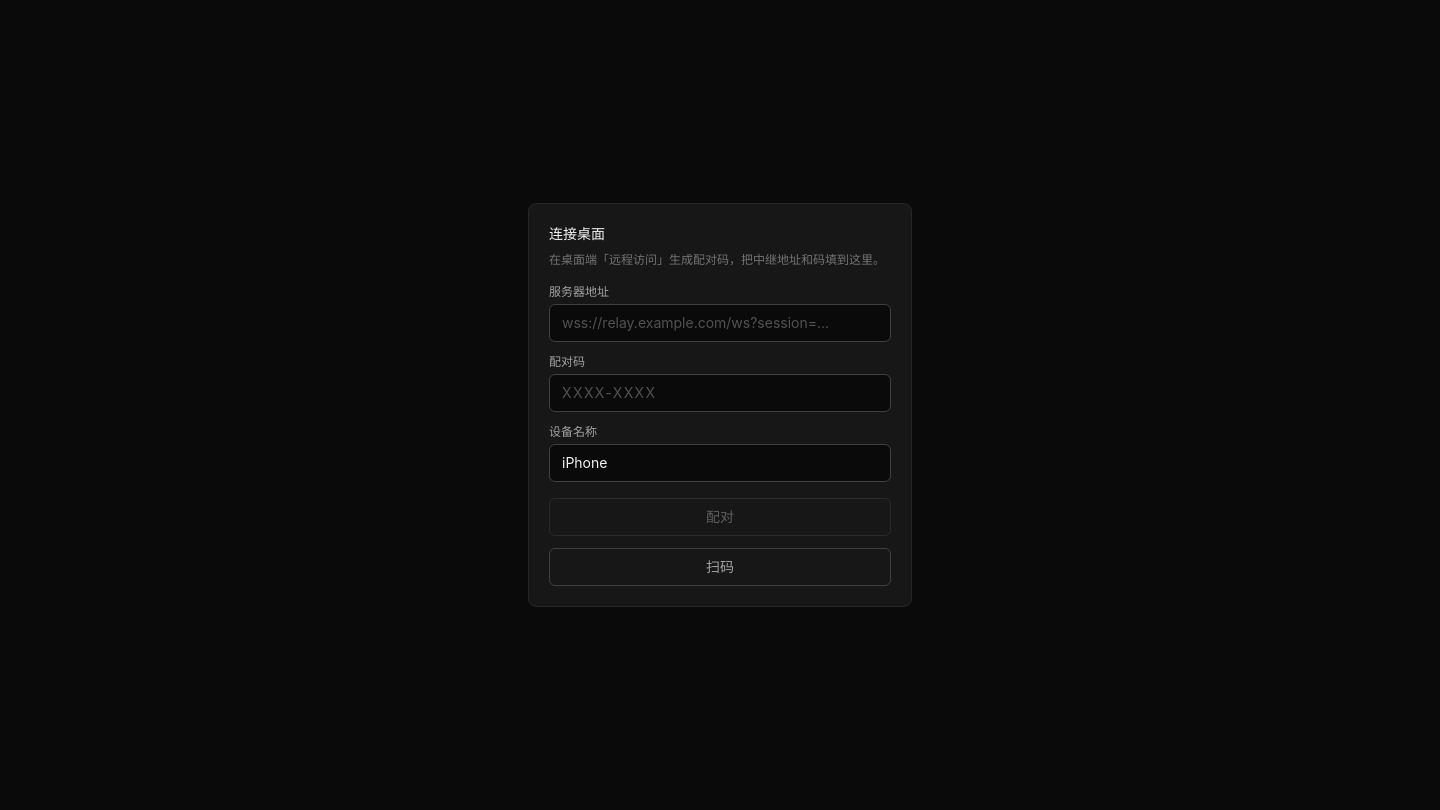
Test case: PairingScreen QR scan › lets the user cancel the scanner and return to the form
The width and height of the screenshot is (1440, 810).
Click the button "扫码" at (720, 567), box 549,548 -> 891,586
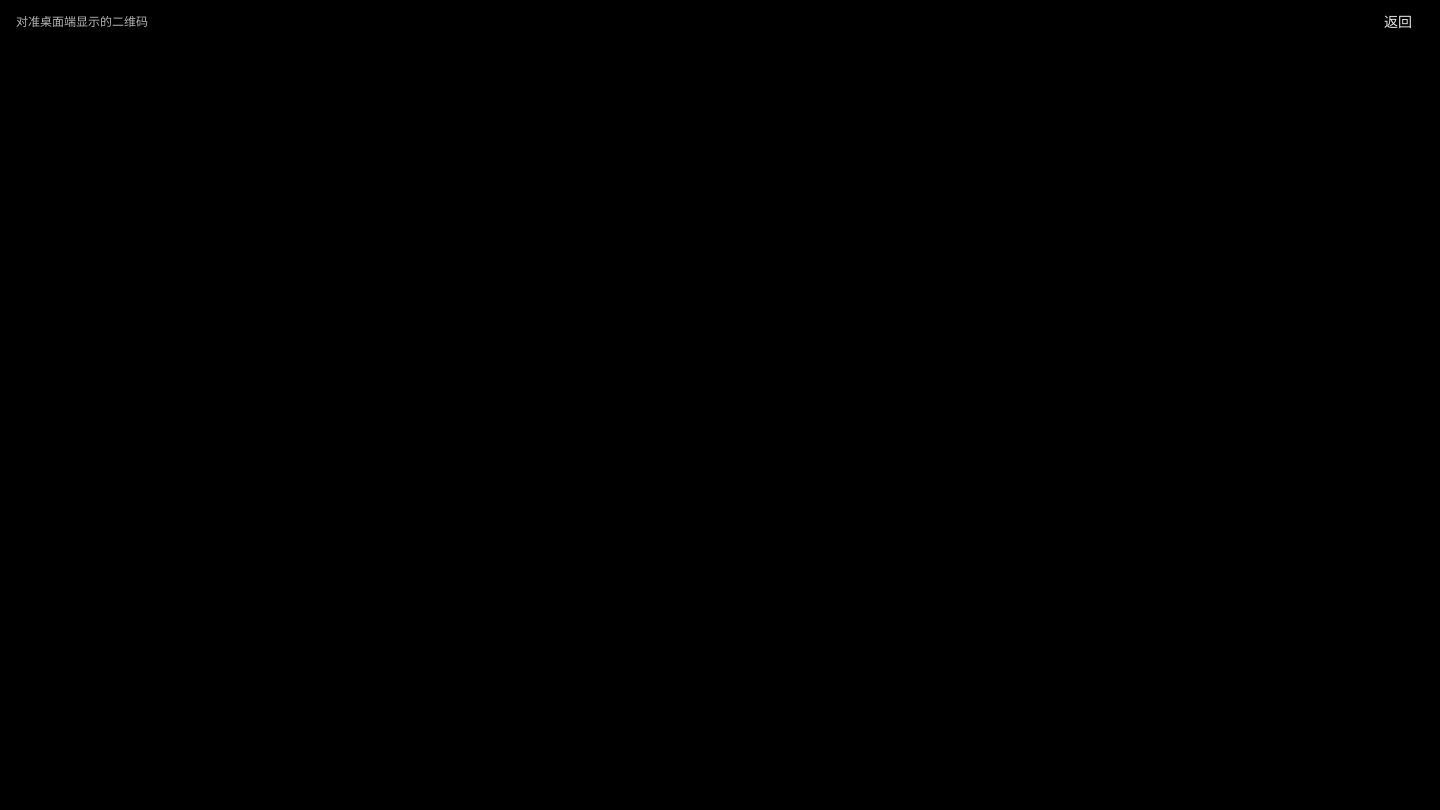
Check: the button "返回" is shown
Click the button "返回" at (1398, 22), box 1372,0 -> 1424,44
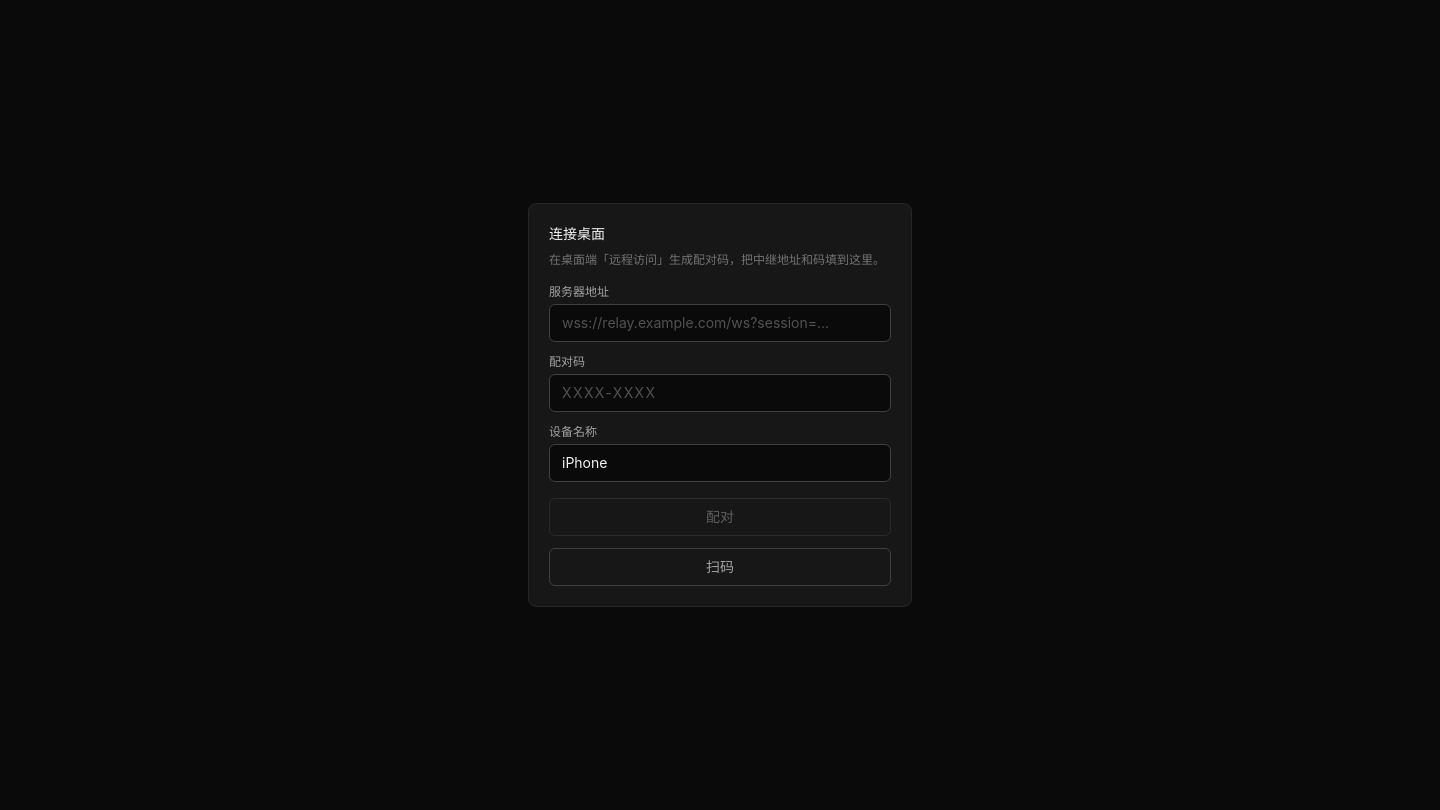
Check: the field labelled "配对码" is shown, box 549,374 -> 891,412
Check: the button "返回" is gone
